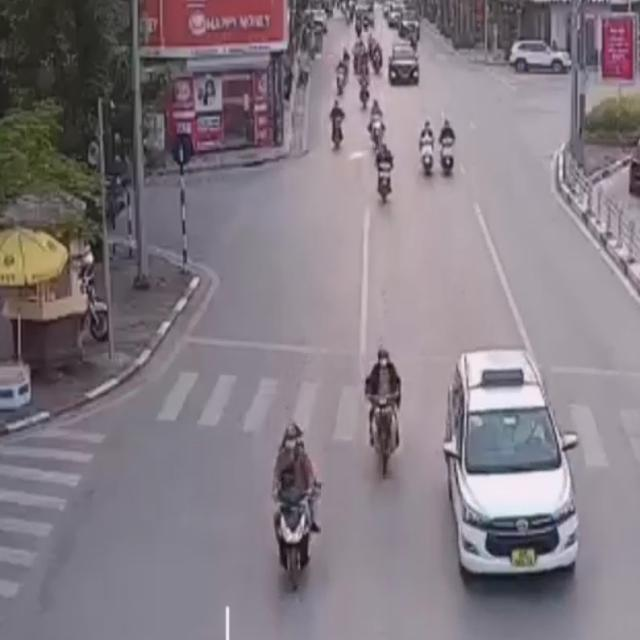car: (434, 342, 586, 590)
motorbike: (264, 420, 324, 598), (360, 345, 406, 483), (372, 139, 394, 202), (414, 120, 436, 180), (438, 118, 457, 178)
